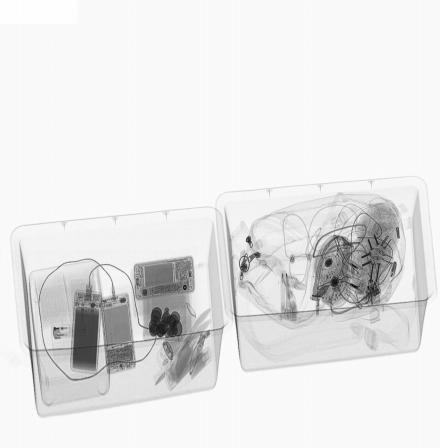Lighter: (52, 322, 86, 339)
